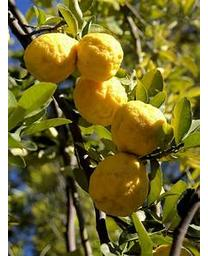lemon: (89, 155, 150, 216), (111, 99, 170, 153), (23, 30, 79, 82), (75, 74, 127, 123), (76, 31, 124, 80)
